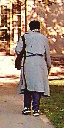person: (15, 18, 54, 114)
